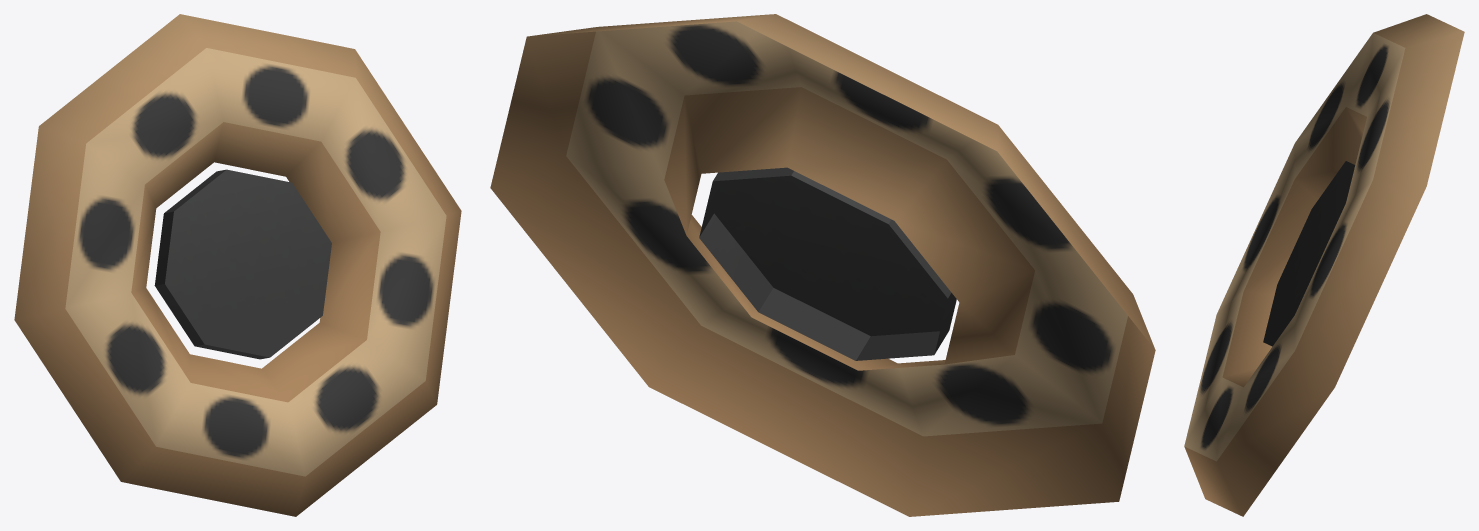
File: Marcador_1.obj
3 renders of one model, left to right at view 1: azimuth 30°, elevation 25°; view 2: azimuth 150°, elevation 25°; view 3: azimuth 270°, elevation 25°, orthographic. The views are drawn at different scales.
Parts seen in each view (by area): view 1: Marcador1; view 2: Marcador1; view 3: Marcador1.
Boxes of the visible parts, box(x1,y1,x2,y2) form: Marcador1: box(14, 14, 461, 516); Marcador1: box(490, 14, 1155, 516); Marcador1: box(1184, 14, 1464, 516).
Size of the model in its own units: 11.01 by 9.84 by 5.35.
1 material, 1 textured.
